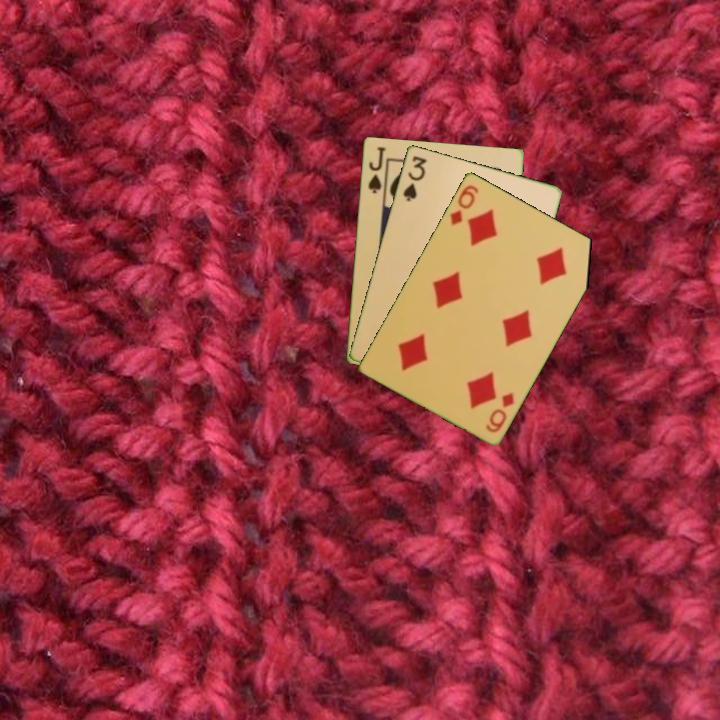3s: (399, 152, 429, 204)
6d: (446, 181, 481, 228), (482, 388, 517, 435)
Js: (364, 143, 388, 196)
